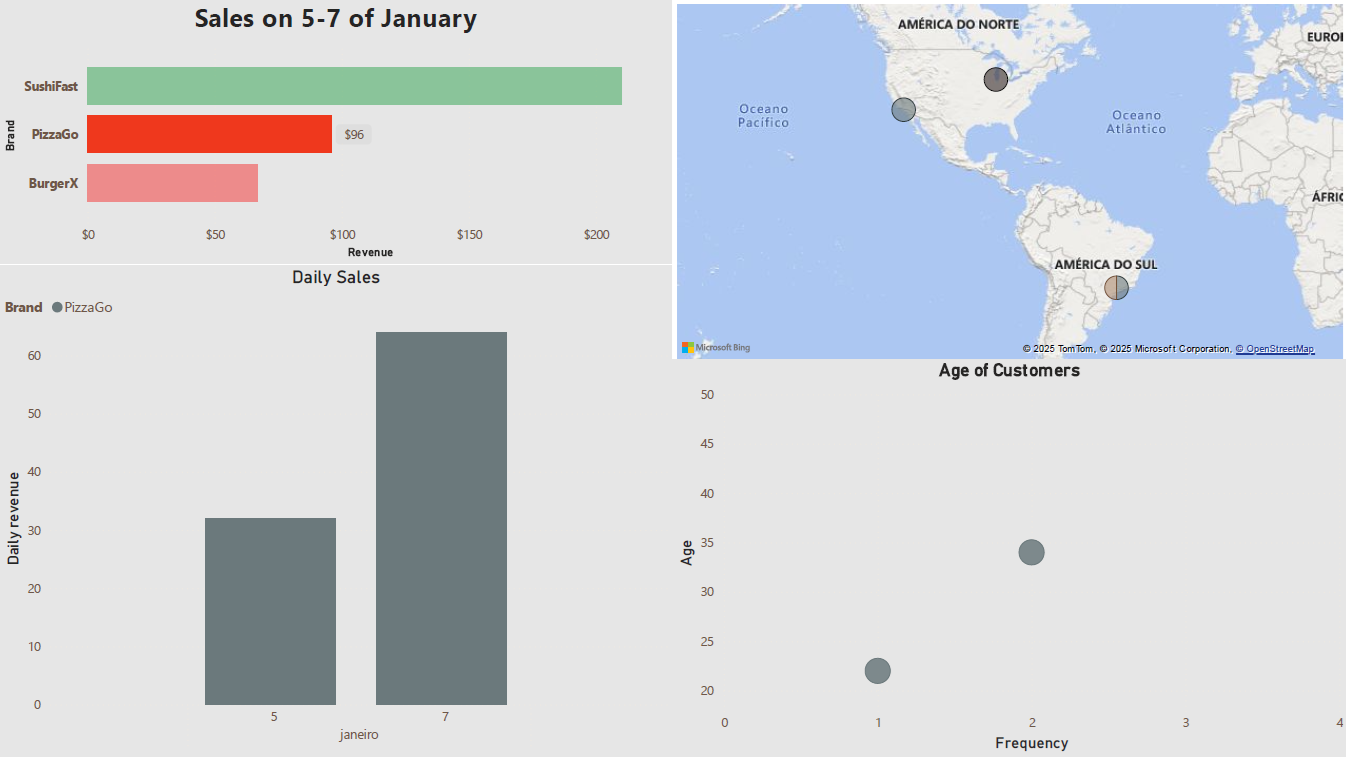

What the dashboard file says about the page in this screenshot:
{"tool":"powerbi","page":{"name":"Página 1","canvas":[1280,720],"ordinal":0},"visuals":[{"type":"clusteredBarChart","title":"Sales on 5-7 of January","fields":{"Category":["Orders.Brand"],"Y":["Sum(Orders.TotalAmount)"]},"box":[0,0,639.5,251.1],"z":0},{"type":"columnChart","title":"Daily Sales","fields":{"Category":["Calendar.Date.Variation.Hierarquia de datas.Mês","Calendar.Date.Variation.Hierarquia de datas.Dia"],"Series":["Orders.Brand"],"Y":["Orders.Daily revenue","select"]},"box":[0,231.9,639.5,467.9],"z":1000},{"type":"map","fields":{"Category":["Kitchens.Location"],"Series":["Brands.Rating"]},"box":[639.5,0,640.8,349.9],"z":2000},{"type":"scatterChart","title":"Age of Customers","fields":{"X":["Avg(Customers.NumOrderFrequency)"],"Y":["Customers.Age"]},"box":[639.5,341.7,640.8,377.4],"z":2001}]}

Visuals, with their boxes in screenshot pixels (x1, y1, x2, y2), scaled from the page's 1280x720 canvas onto the 1346x757 screenshot:
"Sales on 5-7 of January" clusteredBarChart: 0/0/672/264
"Daily Sales" columnChart: 0/244/672/736
map - Kitchens.Location x Brands.Rating: 672/0/1345/368
"Age of Customers" scatterChart: 672/359/1345/756
